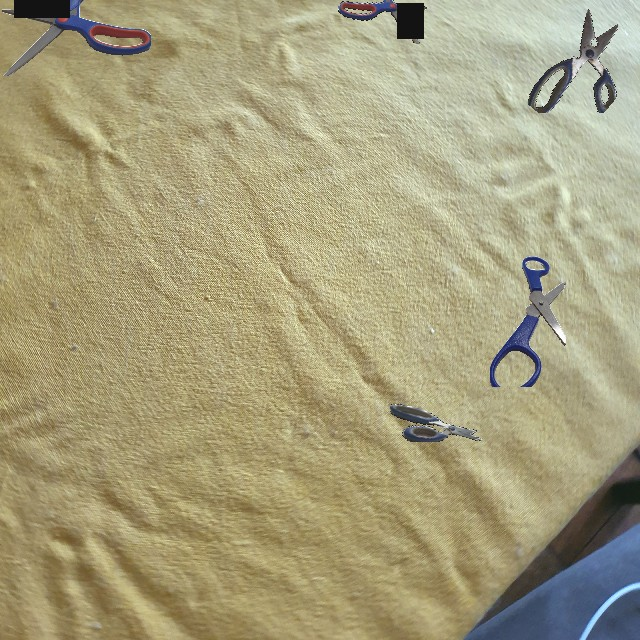scissors: (2, 0, 151, 76), (490, 256, 566, 387), (528, 9, 618, 113), (338, 0, 427, 44), (390, 404, 482, 442)
